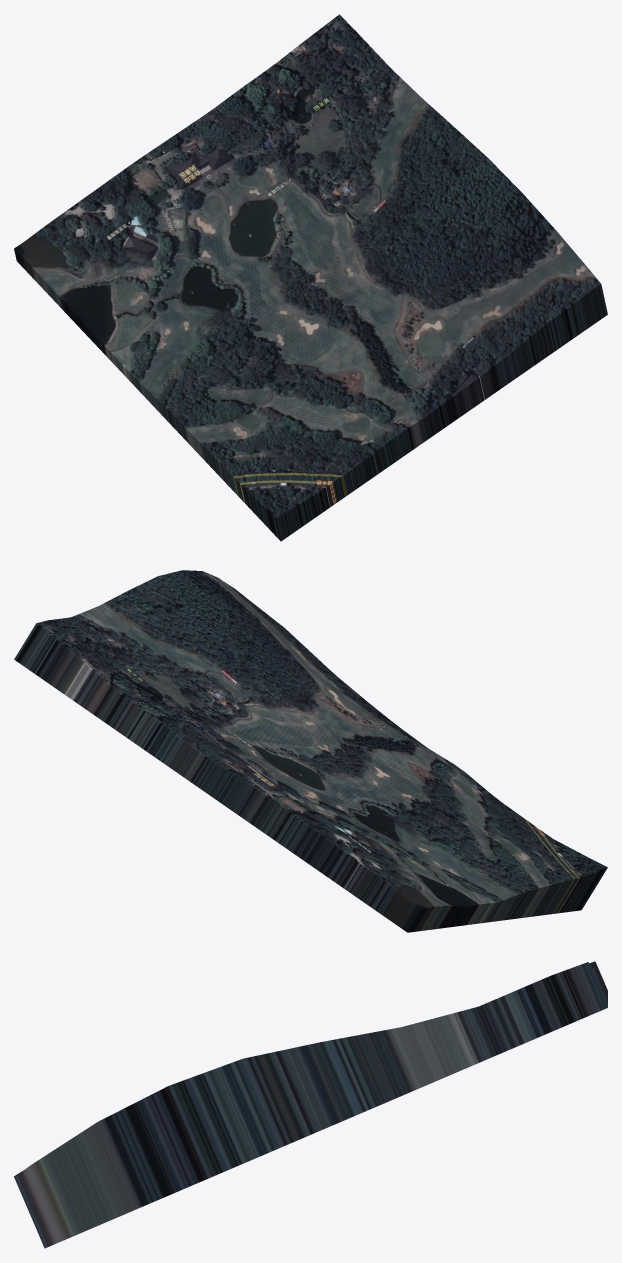
The picture shows the model from 3 angles, top to bottom: view 1: azimuth 30°, elevation 25°; view 2: azimuth 150°, elevation 25°; view 3: azimuth 270°, elevation 25°; orthographic projection. The views are drawn at different scales.
Visible parts, largest first — view 1: 0_4_14; view 2: 0_4_14; view 3: 0_4_14.
Part boxes in pixels (box(x1,y1,x2,y2)): 0_4_14: box(14, 14, 607, 541); 0_4_14: box(14, 570, 607, 932); 0_4_14: box(14, 961, 607, 1248).
Size of the model in its own units: 603 by 469 by 571.
Materials: 1 (1 with a texture image).
